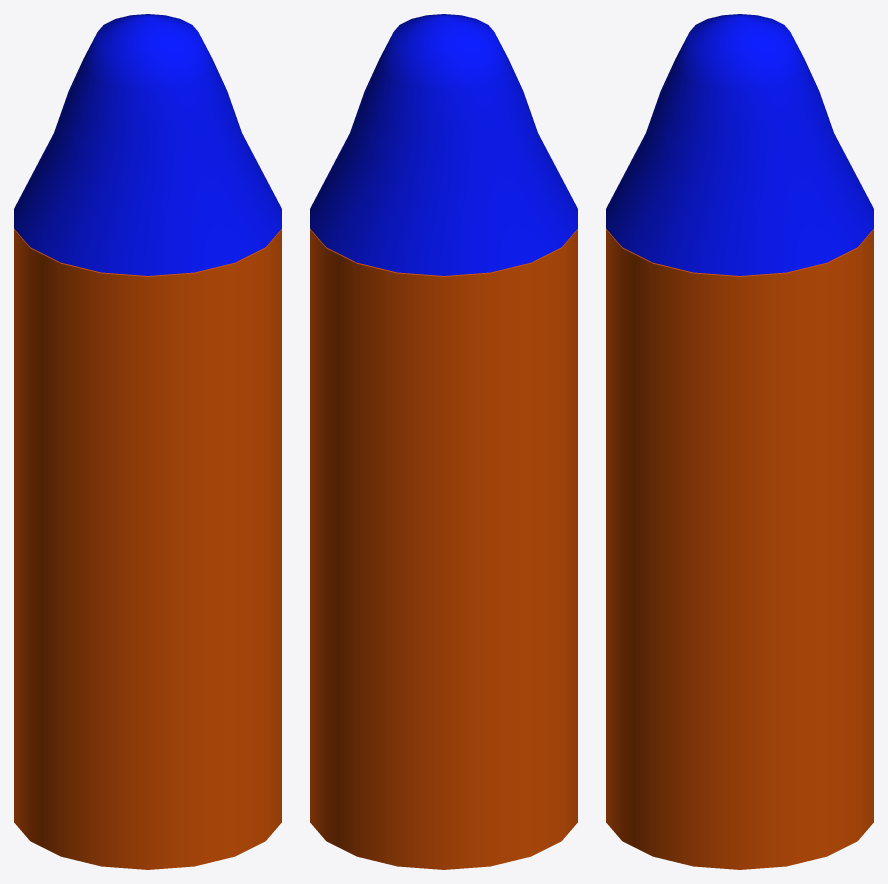
The model's file is bluecrayon_Up.FBX.
The picture shows the model from 3 angles, left to right: view 1: azimuth 30°, elevation 25°; view 2: azimuth 150°, elevation 25°; view 3: azimuth 270°, elevation 25°; orthographic projection.
Parts seen in each view (by area): view 1: Cylinder001, Cylinder002; view 2: Cylinder001, Cylinder002; view 3: Cylinder001, Cylinder002.
Boxes of the visible parts, x1=… form: Cylinder001: x1=14, y1=229, x2=281, y2=869; Cylinder002: x1=14, y1=14, x2=281, y2=275; Cylinder001: x1=310, y1=229, x2=577, y2=869; Cylinder002: x1=310, y1=14, x2=577, y2=275; Cylinder001: x1=606, y1=229, x2=873, y2=869; Cylinder002: x1=606, y1=14, x2=873, y2=275.
Bounding box in the file's own units: 12.9 × 41.66 × 12.71.
